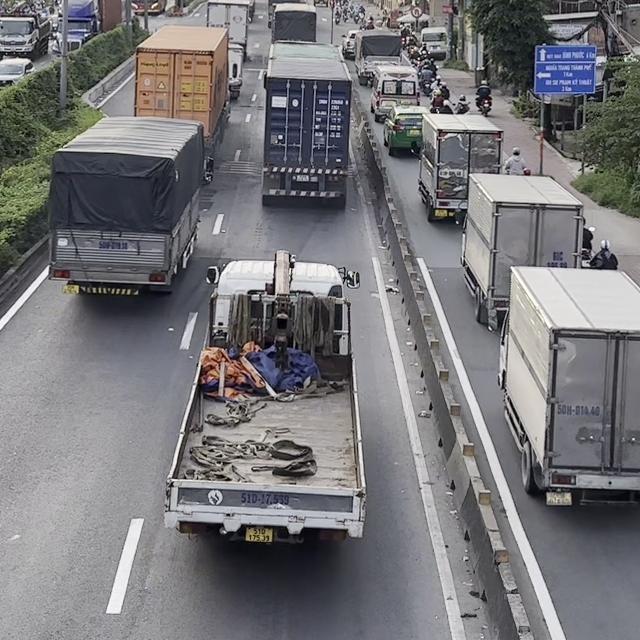car: (370, 65, 420, 123), (382, 104, 431, 156)
motorcycle: (474, 92, 492, 115), (418, 77, 432, 95)
truck: (163, 250, 367, 545), (487, 264, 639, 507), (47, 115, 214, 297), (453, 172, 585, 333), (133, 24, 238, 183), (260, 43, 353, 206), (411, 113, 504, 225), (1, 1, 52, 61), (353, 30, 403, 86), (205, 0, 250, 61), (268, 1, 317, 43)
